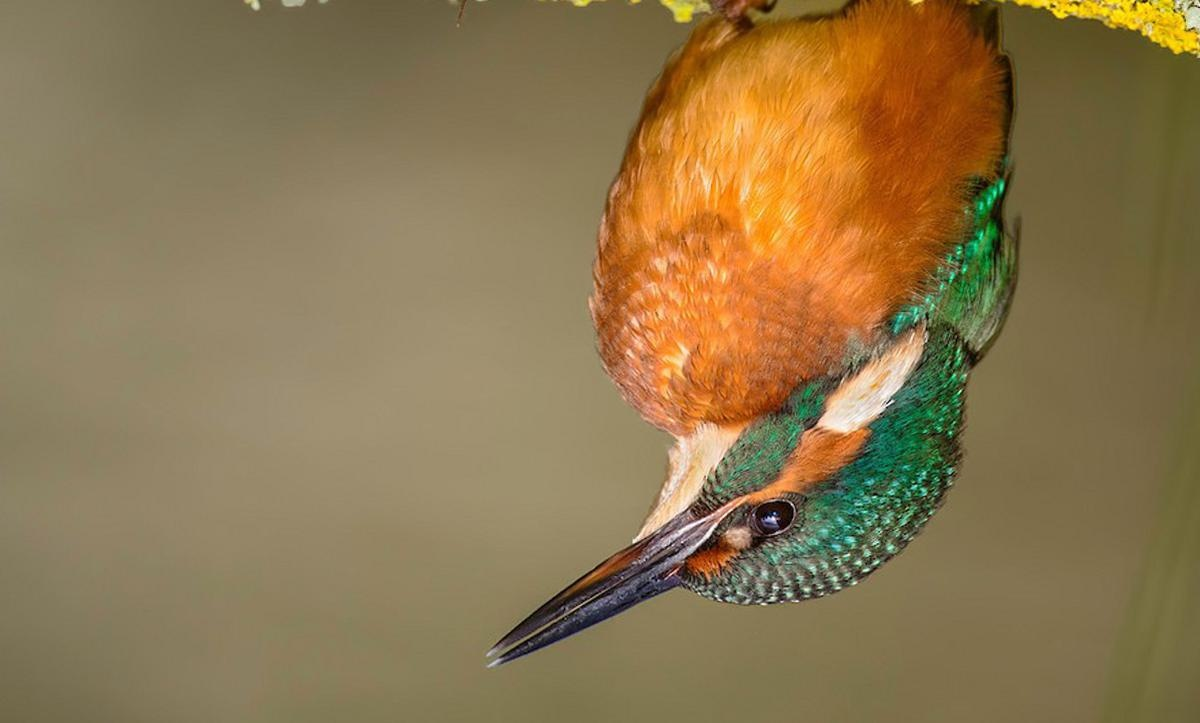kingfisher: (480, 3, 1042, 686)
